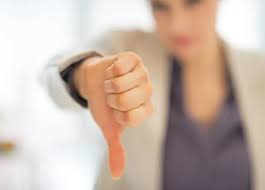ThumbsDown: (85, 49, 158, 182)
